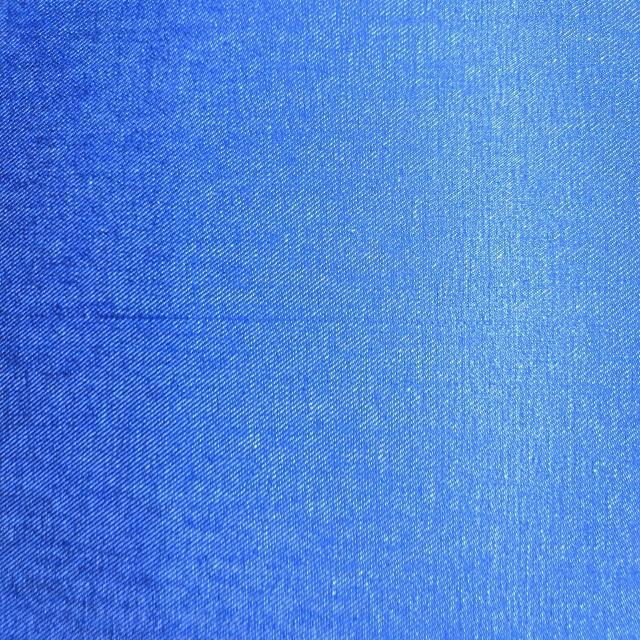Line: (28, 305, 558, 333)
